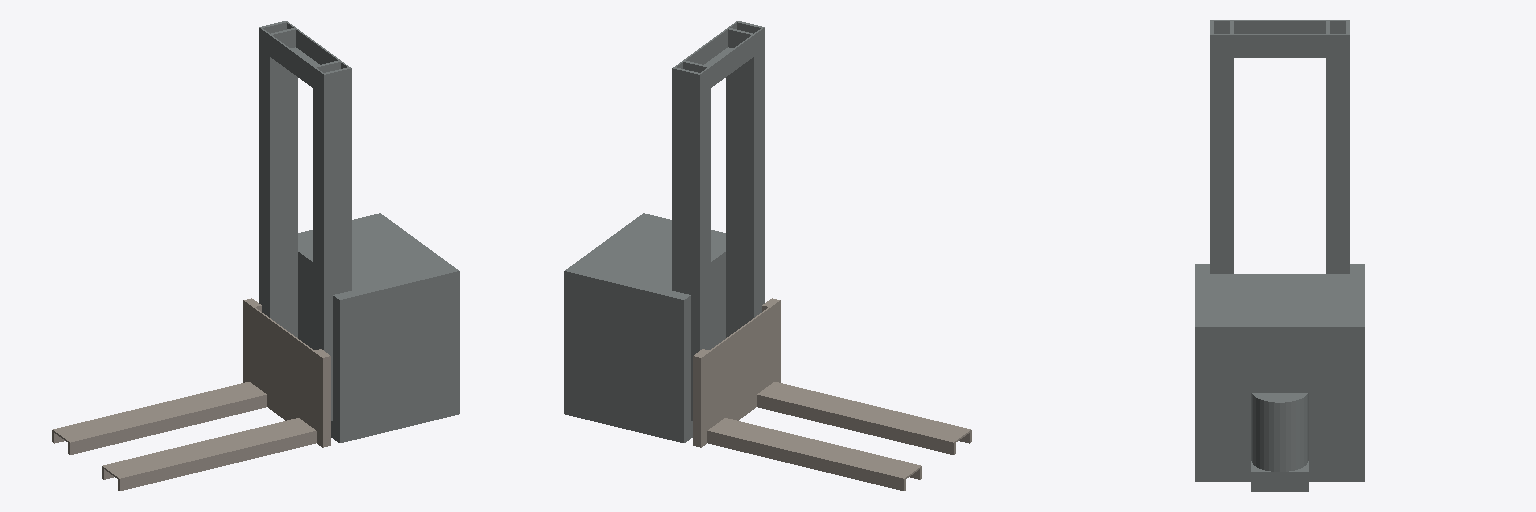
robot.urdf — l14_v3_center:
<?xml version="1.0" encoding="utf-8"?>
<!-- This URDF was automatically created by SolidWorks to URDF Exporter! Originally created by [author] ([email redacted]) 
     Commit Version: 1.5.1-0-g916b5db  Build Version: 1.5.7152.31018
     For more information, please see http://wiki.ros.org/sw_urdf_exporter -->
<robot
  name="l14_v3_center">







    <link name="base_footprint">
      <visual>
        <origin xyz="0 0 0" rpy="0 0 0"/>
        <geometry>
          <box size="0.001 0.001 0.001"/>
        </geometry>
      </visual>
    </link>     
    <gazebo reference="base_footprint">
      <turnGravityOff>false</turnGravityOff>
    </gazebo>

    <joint name="base_footprint_joint" type="fixed">
      <origin xyz="0 0 0" rpy="0 0 0"/>        
      <parent link="base_footprint"/>
      <child link="base_link"/>
    </joint>




  <link
    name="base_link">
    <inertial>
      <origin
        xyz="0.99389 1.4427E-16 0.60839"
        rpy="0 0 0" />
      <mass
        value="755.97" />
      <inertia
        ixx="188"
        ixy="-1.2732E-13"
        ixz="-18.348"
        iyy="184.3"
        iyz="2.5221E-14"
        izz="107.31" />
    </inertial>
    <visual>
      <origin
        xyz="0 0 0"
        rpy="0 0 0" />
      <geometry>
        <mesh
          filename="package://l14_v3_center/meshes/base_link.STL" />
      </geometry>
      <material
        name="">
        <color
          rgba="0.52941 0.54902 0.54902 1" />
      </material>
    </visual>
    <collision>
      <origin
        xyz="0 0 0"
        rpy="0 0 0" />
      <geometry>
        <mesh
          filename="package://l14_v3_center/meshes/base_link.STL" />
      </geometry>
    </collision>
  </link>
  <link
    name="rear_right_caster">
    <inertial>
      <origin
        xyz="8.2836E-19 1.7347E-18 -0.0325"
        rpy="0 0 0" />
      <mass
        value="0.39466" />
      <inertia
        ixx="0.00031717"
        ixy="4.537E-37"
        ixz="-2.908E-36"
        iyy="0.00031717"
        iyz="-1.7702E-21"
        izz="0.00035643" />
    </inertial>
    <visual>
      <origin
        xyz="0 0 0"
        rpy="0 0 0" />
      <geometry>
        <mesh
          filename="package://l14_v3_center/meshes/rear_right_caster.STL" />
      </geometry>
      <material
        name="">
        <color
          rgba="1 1 1 0.32" />
      </material>
    </visual>
    <collision>
      <origin
        xyz="0 0 0"
        rpy="0 0 0" />
      <geometry>
        <mesh
          filename="package://l14_v3_center/meshes/rear_right_caster.STL" />
      </geometry>
    </collision>
  </link>
  <joint
    name="rear_right_caster_joint"
    type="continuous">
    <origin
      xyz="0 -0.2175 0"
      rpy="1.5707963267949 0 3.14159265358979" />
    <parent
      link="base_link" />
    <child
      link="rear_right_caster" />
    <axis
      xyz="0 0 1" />
  </joint>
  <link
    name="rear_left_caster">
    <inertial>
      <origin
        xyz="8.2836E-19 1.7347E-18 0.0325"
        rpy="0 0 0" />
      <mass
        value="0.39466" />
      <inertia
        ixx="0.00031717"
        ixy="4.537E-37"
        ixz="-2.908E-36"
        iyy="0.00031717"
        iyz="-1.7702E-21"
        izz="0.00035643" />
    </inertial>
    <visual>
      <origin
        xyz="0 0 0"
        rpy="0 0 0" />
      <geometry>
        <mesh
          filename="package://l14_v3_center/meshes/rear_left_caster.STL" />
      </geometry>
      <material
        name="">
        <color
          rgba="1 1 1 0.32" />
      </material>
    </visual>
    <collision>
      <origin
        xyz="0 0 0"
        rpy="0 0 0" />
      <geometry>
        <mesh
          filename="package://l14_v3_center/meshes/rear_left_caster.STL" />
      </geometry>
    </collision>
  </link>
  <joint
    name="rear_left_caster_joint"
    type="continuous">
    <origin
      xyz="0 0.2175 0"
      rpy="1.5707963267949 0 3.14159265358979" />
    <parent
      link="base_link" />
    <child
      link="rear_left_caster" />
    <axis
      xyz="0 0 1" />
  </joint>
  <link
    name="front_steering">
    <inertial>
      <origin
        xyz="-8.0624E-09 1.6465E-08 -0.014515"
        rpy="0 0 0" />
      <mass
        value="9.8889" />
      <inertia
        ixx="0.071104"
        ixy="3.0027E-09"
        ixz="8.8397E-10"
        iyy="0.063856"
        iyz="-3.0489E-08"
        izz="0.12133" />
    </inertial>
    <visual>
      <origin
        xyz="0 0 0"
        rpy="0 0 0" />
      <geometry>
        <mesh
          filename="package://l14_v3_center/meshes/front_steering.STL" />
      </geometry>
      <material
        name="">
        <color
          rgba="0.52941 0.54902 0.54902 1" />
      </material>
    </visual>
    <collision>
      <origin
        xyz="0 0 0"
        rpy="0 0 0" />
      <geometry>
        <mesh
          filename="package://l14_v3_center/meshes/front_steering.STL" />
      </geometry>
    </collision>
  </link>


  <joint
    name="front_steering_joint"
    type="continuous">
    <origin
      xyz="1.5 0 0.0725"
      rpy="0 0 0" />
    <parent
      link="base_link" />
    <child
      link="front_steering" />
    <axis
      xyz="0 0 1" />
    <anchor xyz="0 0 0"/>
    <limit effort="100" velocity="100" k_velocity="0"/>
    <joint_properties damping="0.0" friction="0.0"/>
  </joint>



  <link
    name="front_wheel">
    <inertial>
      <origin
        xyz="0 -1.3878E-17 2.5851E-18"
        rpy="0 0 0" />
      <mass
        value="3.8127" />
      <inertia
        ixx="0.014867"
        ixy="1.9716E-21"
        ixz="1.0975E-19"
        iyy="0.015601"
        iyz="-1.4161E-20"
        izz="0.025672" />
    </inertial>
    <visual>
      <origin
        xyz="0 0 0"
        rpy="0 0 0" />
      <geometry>
        <mesh
          filename="package://l14_v3_center/meshes/front_wheel.STL" />
      </geometry>
      <material
        name="">
        <color
          rgba="1 1 1 0.32" />
      </material>
    </visual>
    <collision>
      <origin
        xyz="0 0 0"
        rpy="0 0 0" />
      <geometry>
        <mesh
          filename="package://l14_v3_center/meshes/front_wheel.STL" />
      </geometry>
    </collision>
  </link>


  <joint
    name="front_wheel_joint"
    type="continuous">
    <origin
      xyz="0 0 0"
      rpy="-1.5707963267949 0 0" />
    <parent
      link="front_steering" />
    <child
      link="front_wheel" />
    <axis
      xyz="0 0 1" />
    <anchor xyz="0 0 0"/>
    <limit effort="100" velocity="100" k_velocity="0"/>
    <joint_properties damping="0.0" friction="0.0"/>
  </joint>


  <link
    name="fork">
    <inertial>
      <origin
        xyz="0.44631 -6.7419E-17 0.11903"
        rpy="0 0 0" />
      <mass
        value="151.88" />
      <inertia
        ixx="13.737"
        ixy="-7.6481E-15"
        ixz="-3.8949"
        iyy="24.786"
        iyz="-1.2123E-15"
        izz="32.781" />
    </inertial>
    <visual>
      <origin
        xyz="0 0 0"
        rpy="0 0 0" />
      <geometry>
        <mesh
          filename="package://l14_v3_center/meshes/fork.STL" />
      </geometry>
      <material
        name="">
        <color
          rgba="0.65098 0.61961 0.58824 1" />
      </material>
    </visual>
    <collision>
      <origin
        xyz="0 0 0"
        rpy="0 0 0" />
      <geometry>
        <mesh
          filename="package://l14_v3_center/meshes/fork.STL" />
      </geometry>
    </collision>
  </link>


  <joint
    name="fork_joint"
    type="prismatic">
    <origin
      xyz="0 0 0"
      rpy="0 0 0" />
    <parent
      link="base_link" />
    <child
      link="fork" />
    <axis
      xyz="0 0 1" />
    <anchor xyz="0 0 0"/>
    <limit effort="100" lower="0.0" upper="2.0" velocity="0.5"/>
  </joint>


  <link
    name="battery">
    <inertial>
      <origin
        xyz="0 0 0.325"
        rpy="0 0 0" />
      <mass
        value="275.18" />
      <inertia
        ixx="20.925"
        ixy="1.8134E-16"
        ixz="4.4816E-16"
        iyy="11.361"
        iyz="-7.5643E-16"
        izz="12.908" />
    </inertial>
    <visual>
      <origin
        xyz="0 0 0"
        rpy="0 0 0" />
      <geometry>
        <mesh
          filename="package://l14_v3_center/meshes/battery.STL" />
      </geometry>
      <material
        name="">
        <color
          rgba="0.29804 0.29804 0.29804 1" />
      </material>
    </visual>
    <collision>
      <origin
        xyz="0 0 0"
        rpy="0 0 0" />
      <geometry>
        <mesh
          filename="package://l14_v3_center/meshes/battery.STL" />
      </geometry>
    </collision>
  </link>
  <joint
    name="battery_joint"
    type="fixed">
    <origin
      xyz="1.102 0 0.0375"
      rpy="0 0 0" />
    <parent
      link="base_link" />
    <child
      link="battery" />
    <axis
      xyz="0 0 0" />
  </joint>








  <transmission name="fork_joint_trans">
    <type>transmission_interface/SimpleTransmission</type>
    <joint name="fork_joint">
      <!--hardwareInterface>hardware_interface/EffortJointInterface</hardwareInterface-->
      <hardwareInterface>hardware_interface/VelocityJointInterface</hardwareInterface>
    </joint>
    <actuator name="fork_actuator">
      <!--hardwareInterface>hardware_interface/EffortJointInterface</hardwareInterface-->
      <hardwareInterface>hardware_interface/VelocityJointInterface</hardwareInterface>
      <mechanicalReduction>1</mechanicalReduction>
    </actuator>
  </transmission>

  <transmission name="front_steering_joint_trans">
    <type>transmission_interface/SimpleTransmission</type>
    <joint name="front_steering_joint" >
      <hardwareInterface>hardware_interface/PositionJointInterface</hardwareInterface>
    </joint>
    <actuator name="front_steering_actuator">
      <hardwareInterface>hardware_interface/PositionJointInterface</hardwareInterface>
      <mechanicalReduction>1</mechanicalReduction>
    </actuator>
  </transmission>

  <transmission name="front_wheel_joint_trans">
    <type>transmission_interface/SimpleTransmission</type>
    <joint name="front_wheel_joint" >
      <hardwareInterface>hardware_interface/VelocityJointInterface</hardwareInterface>
    </joint>
    <actuator name="front_wheel_actuator">
      <hardwareInterface>hardware_interface/VelocityJointInterface</hardwareInterface>
      <mechanicalReduction>1</mechanicalReduction>
    </actuator>
  </transmission>


   <gazebo>
      <plugin name="gazebo_ros_control" filename="libgazebo_ros_control.so">
        <robotSimType>gazebo_ros_control/DefaultRobotHWSim</robotSimType>
        <legacyModeNS>true</legacyModeNS>
      </plugin>
    </gazebo>



    <gazebo reference="base_link">
      <material>Gazebo/Red</material>
    </gazebo>

    <gazebo reference="fork">
      <material>Gazebo/Black</material>
    </gazebo>

    <gazebo reference="rear_right_caster">
      <material>Gazebo/Yellow</material>
    </gazebo>

    <gazebo reference="rear_left_caster">
      <material>Gazebo/Yellow</material>
    </gazebo>

    <gazebo reference="front_steering">
      <material>Gazebo/Green</material>
    </gazebo>

    <gazebo reference="front_wheel">
      <material>Gazebo/Blue</material>
    </gazebo>




</robot>

--- What the picture shows (computed from the rendered views, not written in the file) ---
3 views of the same robot in one strip: view 1: azimuth 30°, elevation 25°; view 2: azimuth 150°, elevation 25°; view 3: azimuth 270°, elevation 25° (orthographic).
Robot: l14_v3_center — 8 links, 7 joints (4 continuous, 1 prismatic, 2 fixed); root link base_footprint; default pose: every joint at zero.
Visible links, largest first — view 1: base_link, fork; view 2: base_link, fork; view 3: base_link.
Link boxes in pixels (bbox=[...]): base_link: bbox=[259, 21, 459, 442]; fork: bbox=[52, 298, 330, 490]; base_link: bbox=[564, 21, 764, 442]; fork: bbox=[693, 298, 971, 490]; base_link: bbox=[1195, 20, 1364, 491].
Size in the robot's own frame: 2.06 by 0.8 by 2.07 metres.
Meshes: 7 distinct files referenced, 7 mesh visuals loaded (7 binary STL).
